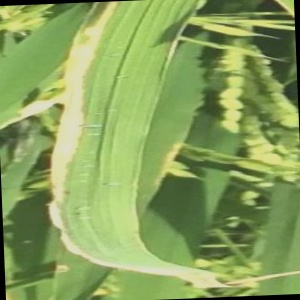Leaf_Blast: (47, 47, 146, 263)
